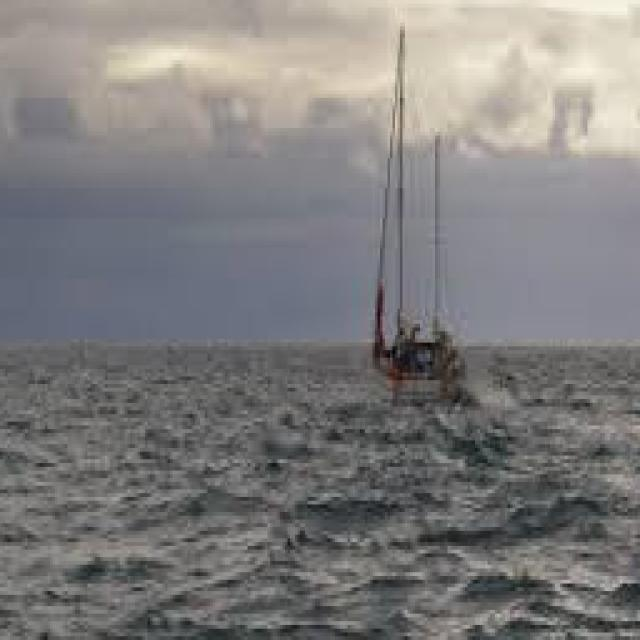fishing boat: (369, 35, 486, 416)
